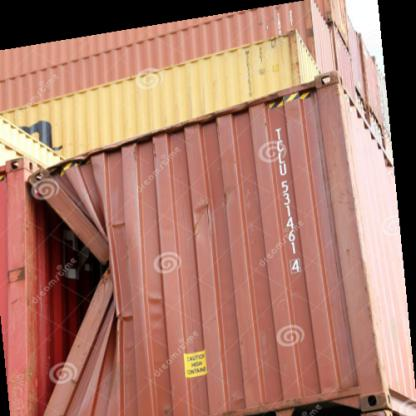Damage: (26, 188, 142, 400)
